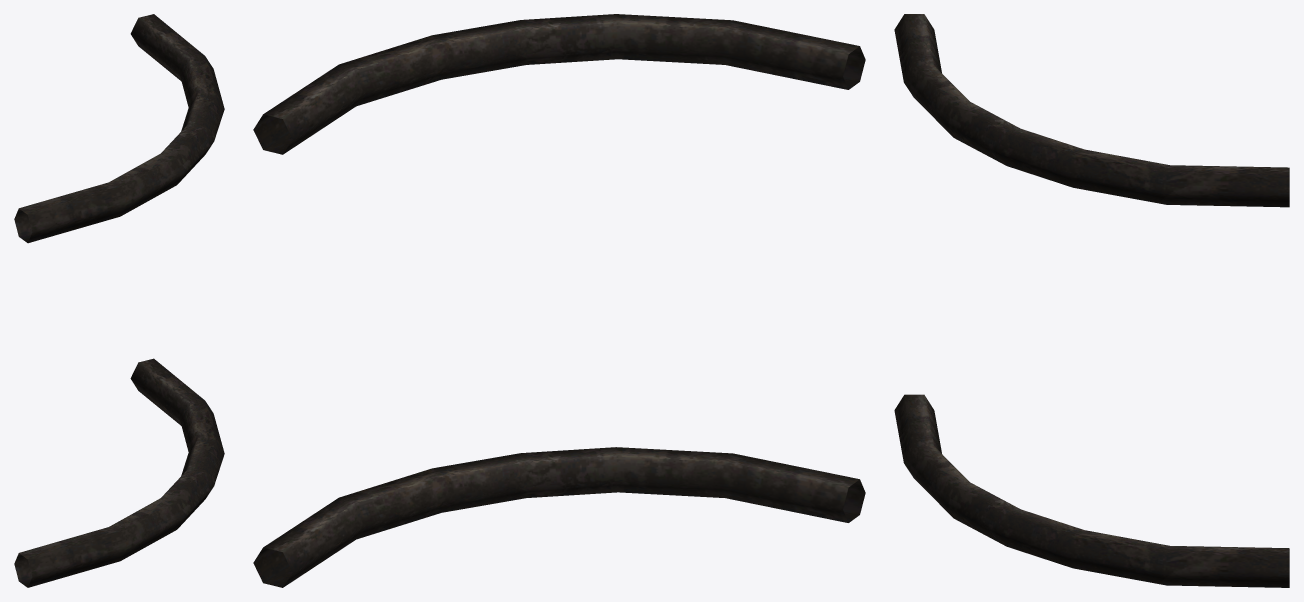
Rendered from railings_factory_bend_dirty.DAE.
3 renders of one model, left to right at view 1: azimuth 30°, elevation 25°; view 2: azimuth 150°, elevation 25°; view 3: azimuth 270°, elevation 25°, orthographic. The views are drawn at different scales.
Visible parts, largest first — view 1: Object115; view 2: Object115; view 3: Object115.
Boxes of the visible parts, x1,y1,x2,y2 form: Object115: [14, 14, 224, 587]; Object115: [253, 14, 865, 587]; Object115: [894, 14, 1289, 587].
Bounding box in the file's own units: 0.5903 × 0.6823 × 0.5931.
